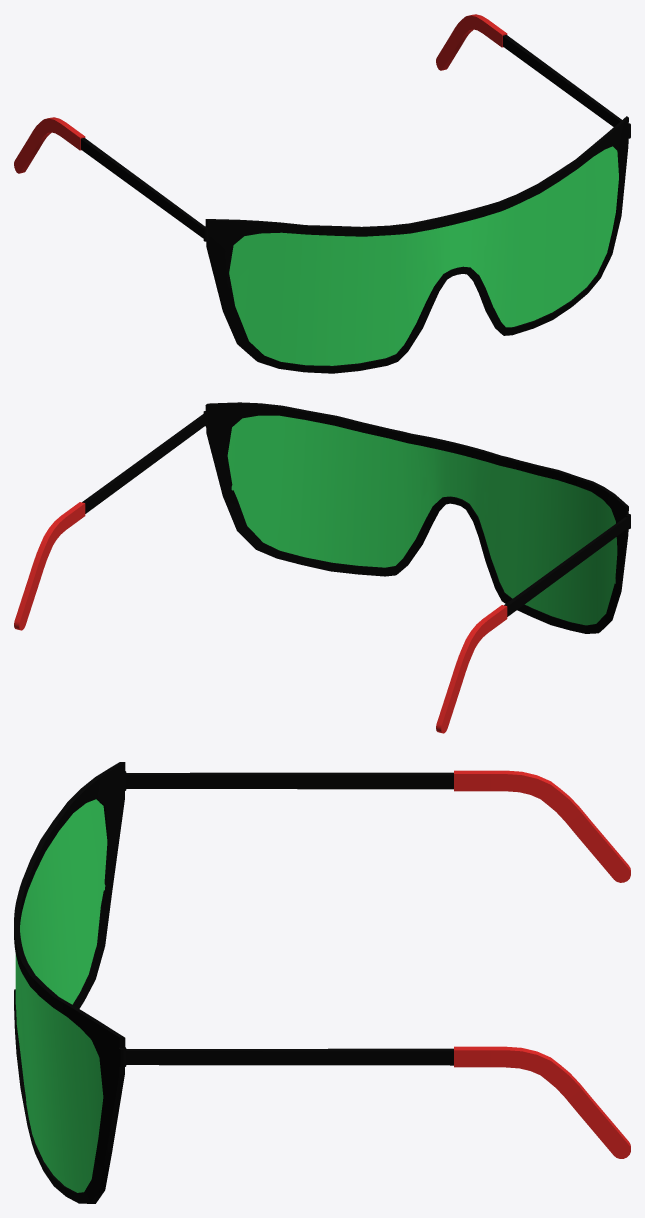
The model's file is glasses24.001.fbx.
The picture shows the model from 3 angles, top to bottom: view 1: azimuth 30°, elevation 25°; view 2: azimuth 150°, elevation 25°; view 3: azimuth 270°, elevation 25°; orthographic projection. The views are drawn at different scales.
Parts seen in each view (by area): view 1: glasses24.001; view 2: glasses24.001; view 3: glasses24.001.
Boxes of the visible parts, x1,y1,x2,y2 form: glasses24.001: (14,14,630,373); glasses24.001: (14,402,630,733); glasses24.001: (14,762,630,1203).
Bounding box in the file's own units: 2.09 × 0.7497 × 1.95.
